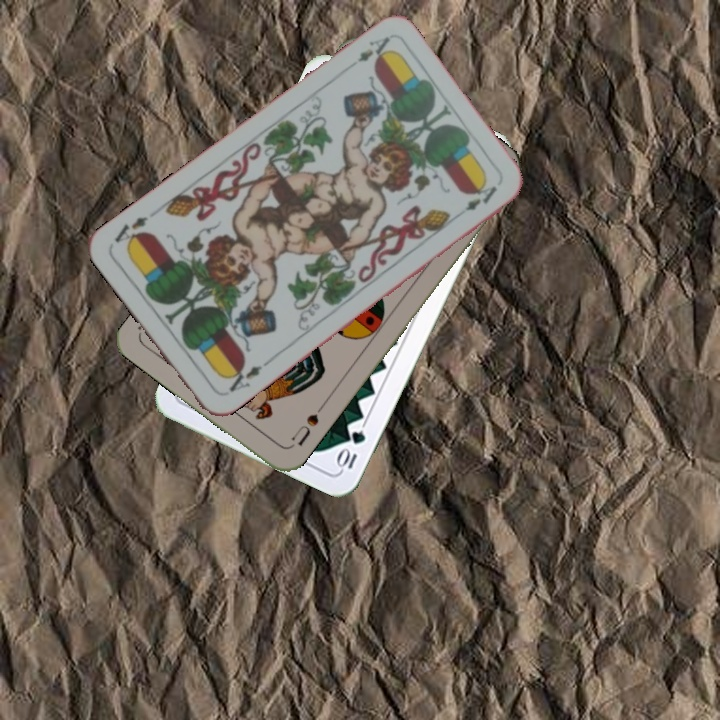EA: (221, 357, 272, 395), (353, 32, 394, 65)
G10: (334, 426, 369, 474)
SU: (286, 400, 327, 448)
